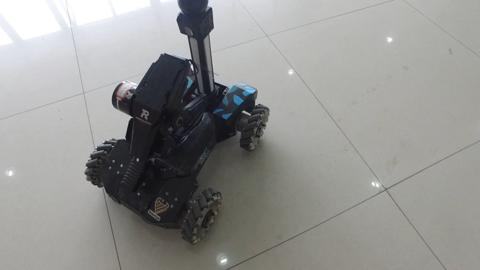chariot: (83, 17, 281, 258)
